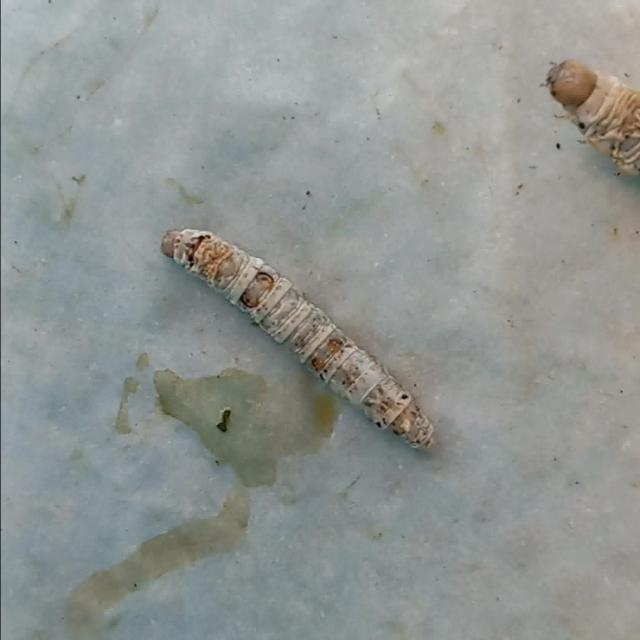Grasserie: (141, 194, 455, 483)
